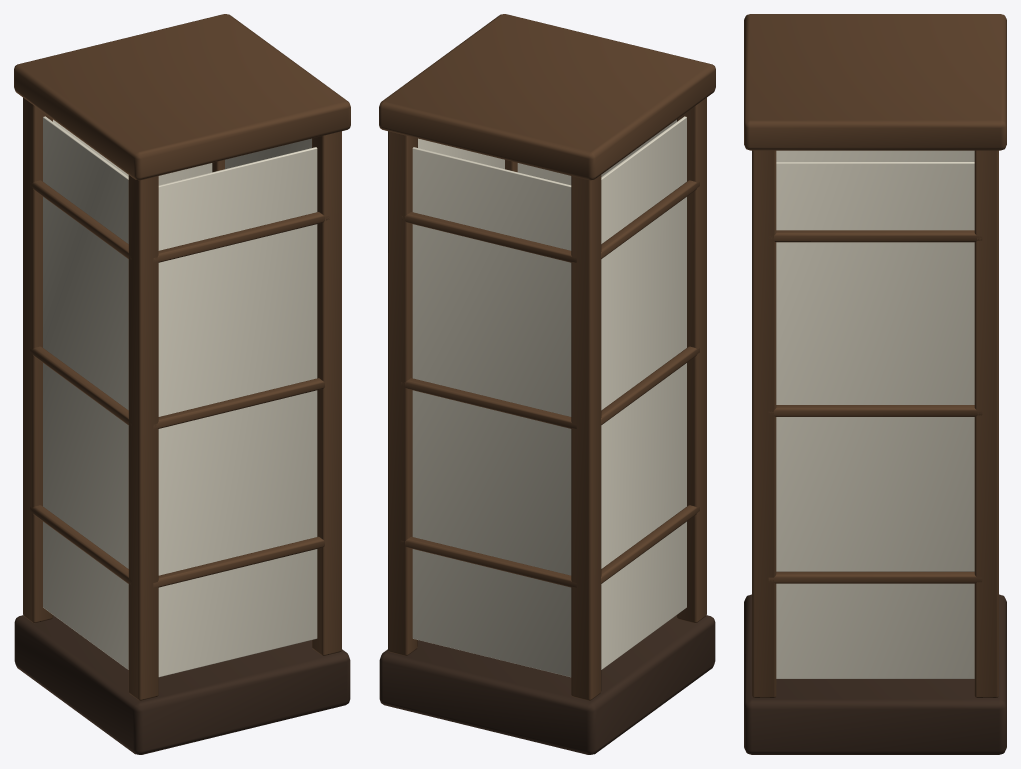
File: kominka-andon-01.glb
The picture shows the model from 3 angles, left to right: view 1: azimuth 30°, elevation 25°; view 2: azimuth 150°, elevation 25°; view 3: azimuth 270°, elevation 25°; orthographic projection. The views are drawn at different scales.
Visible parts, largest first — view 1: kominka-andon-01; view 2: kominka-andon-01; view 3: kominka-andon-01.
Boxes of the visible parts, left/top/right/bottom form: kominka-andon-01: left=14, top=14, right=350, bottom=754; kominka-andon-01: left=379, top=14, right=715, bottom=754; kominka-andon-01: left=744, top=14, right=1006, bottom=754.
Size of the model in its own units: 0.3 by 0.8 by 0.3.
